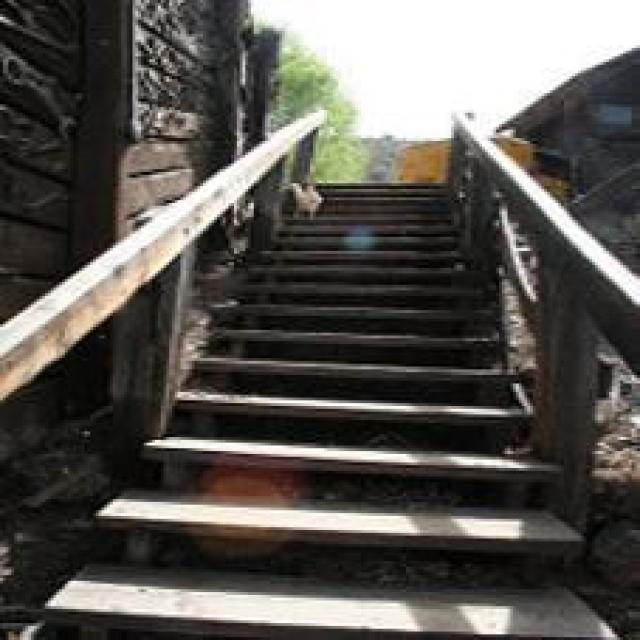upstair: (167, 249, 534, 545)
